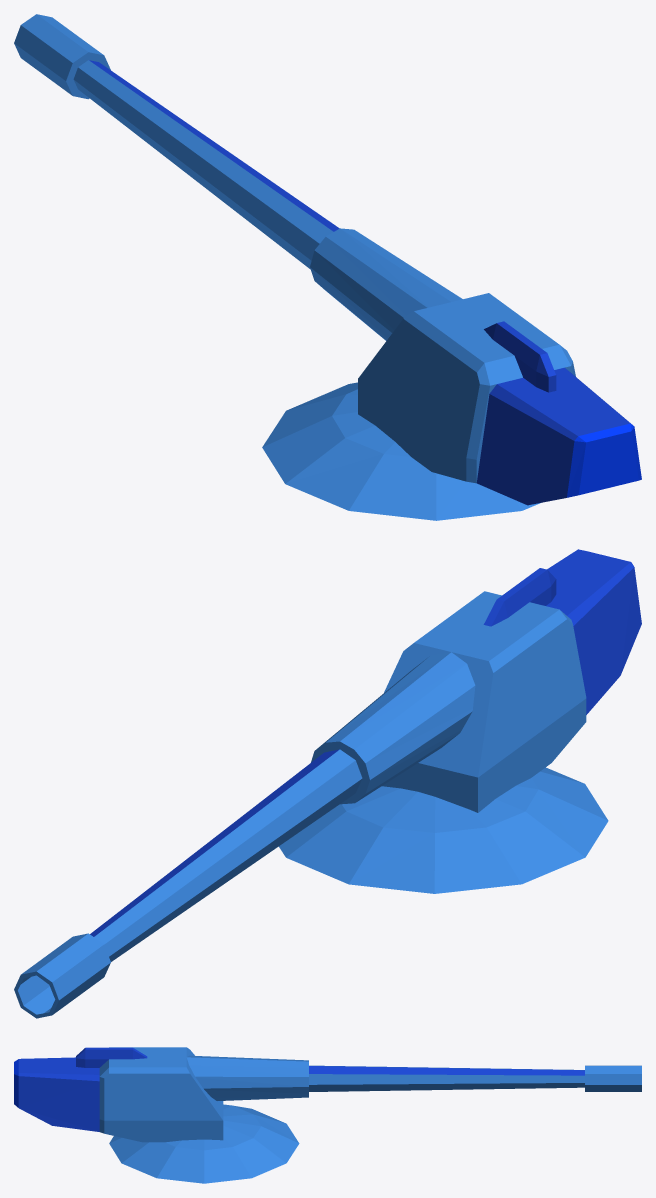
Rendered from wepon.FBX.
3 renders of one model, top to bottom at view 1: azimuth 30°, elevation 25°; view 2: azimuth 150°, elevation 25°; view 3: azimuth 270°, elevation 25°, orthographic. The views are drawn at different scales.
Parts seen in each view (by area): view 1: VIFS002, VIFS001, VIFS003; view 2: VIFS002, VIFS001; view 3: VIFS002, VIFS001, VIFS003.
Part boxes in pixels (<box>): VIFS002: <box>14,14,575,520</box>; VIFS001: <box>89,60,632,505</box>; VIFS003: <box>567,423,641,497</box>; VIFS002: <box>14,591,608,1018</box>; VIFS001: <box>90,549,641,936</box>; VIFS002: <box>99,1047,641,1183</box>; VIFS001: <box>18,1047,584,1131</box>; VIFS003: <box>14,1059,18,1107</box>.
Size of the model in its own units: 0.4348 by 0.2391 by 1.43.
